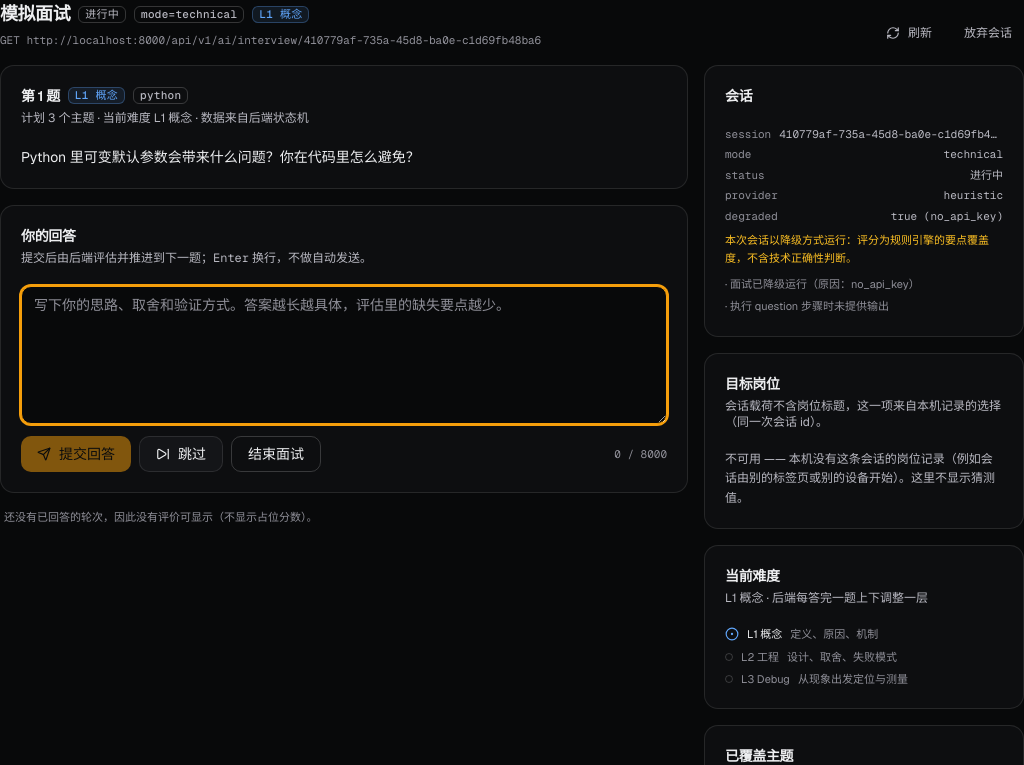
Test case: a failed turn › resubmits the same text when the answer never arrived
The image size is (1024, 765).
Type "我用 None 作为默认值，避免可变对象在多次调用之间被共享。" into the text box named "你的回答" at (344, 355), box [21,286,667,424]
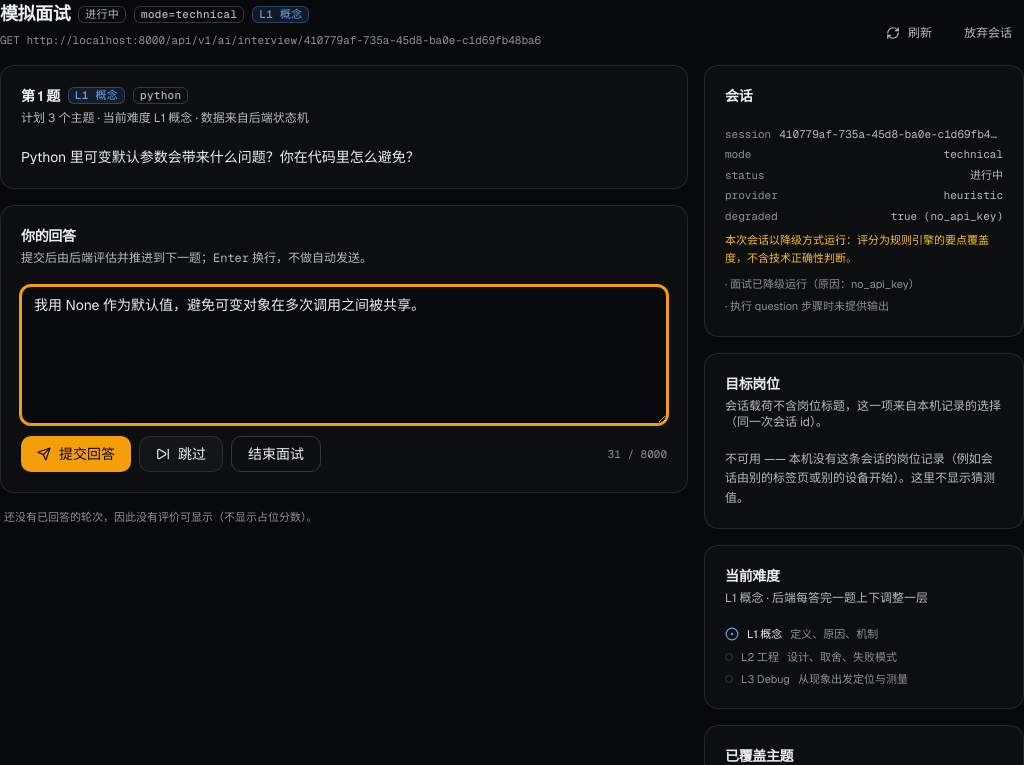
Click the button "提交回答" at (76, 454), box [21,436,131,472]
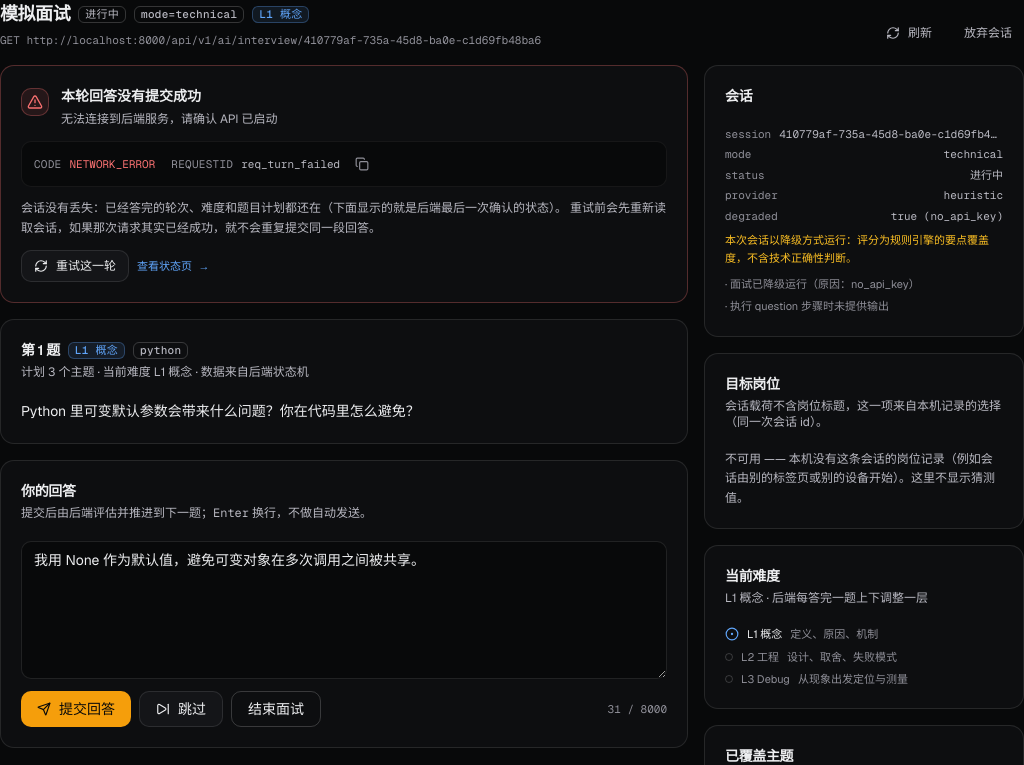
Expected: the message is shown, [0,64,688,303]
Click the button "重试这一轮" at (75, 266), box [21,250,129,282]
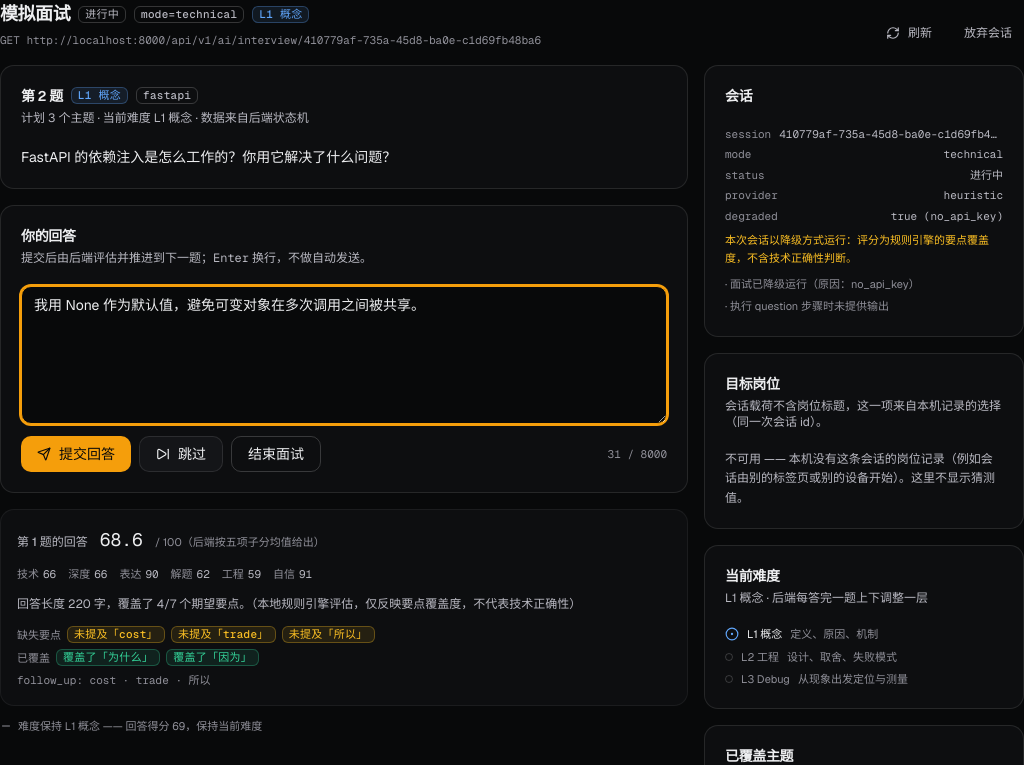
Expected: the text "FastAPI 的依赖注入是怎么工作的？你用它解决了什么问题？" is shown, [21,148,396,166]
